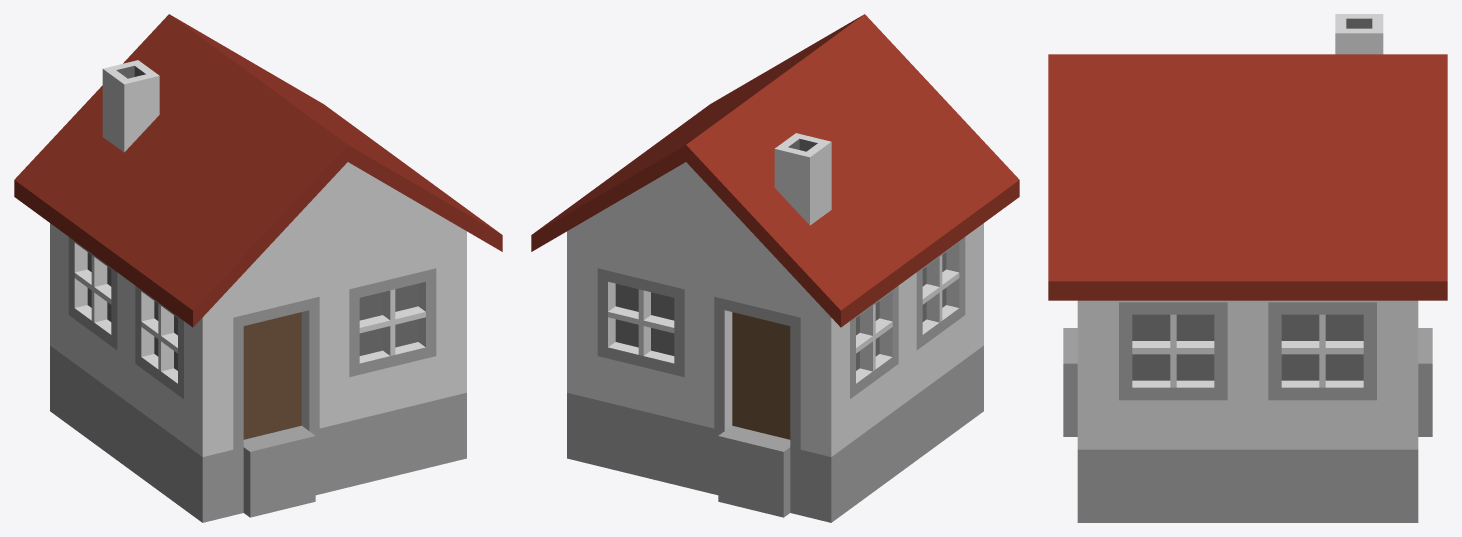
File: house_01.glb
3 views of the same model, side by side, from view 1: azimuth 30°, elevation 25°; view 2: azimuth 150°, elevation 25°; view 3: azimuth 270°, elevation 25° (orthographic). The views are drawn at different scales.
Visible parts, largest first — view 1: house_01; view 2: house_01; view 3: house_01.
Part boxes in pixels (x1,y1,x2,y2): house_01: (14, 14, 502, 522); house_01: (531, 14, 1019, 522); house_01: (1048, 14, 1447, 522).
Size of the model in its own units: 1.84 by 2.02 by 1.84.
